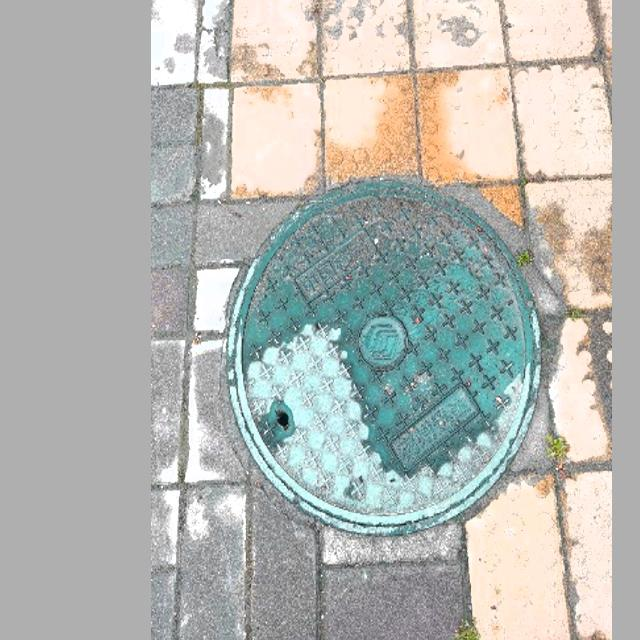good: (226, 182, 542, 534)
